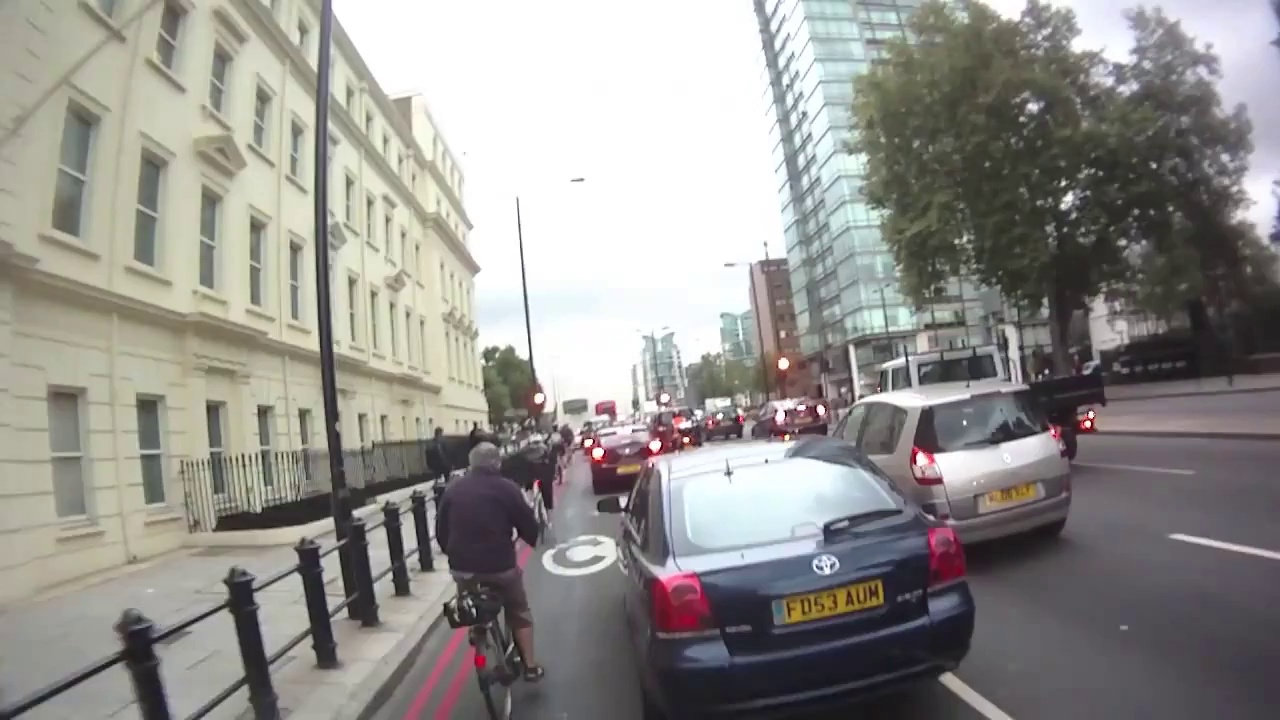cyclist_back: (428, 440, 553, 712)
